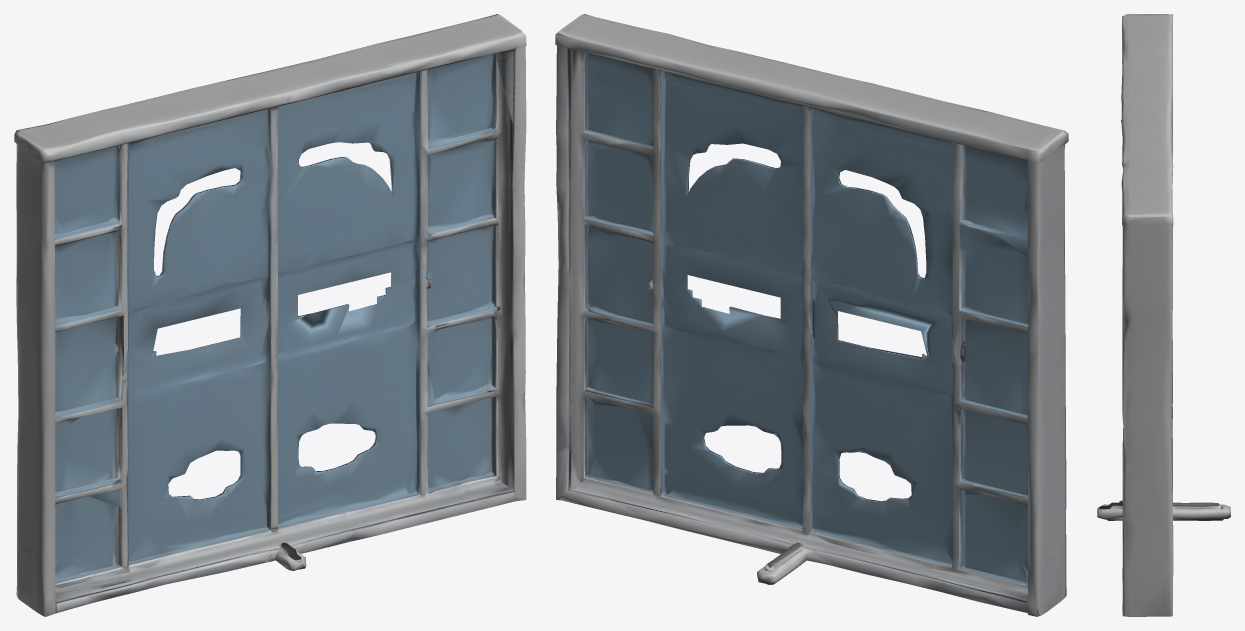
Rendered from level1-office-window.glb.
3 renders of one model, left to right at view 1: azimuth 30°, elevation 25°; view 2: azimuth 150°, elevation 25°; view 3: azimuth 270°, elevation 25°, orthographic. The views are drawn at different scales.
Visible parts, largest first — view 1: tripo_node_243b9662-0704-4795-bea9-71017e061377; view 2: tripo_node_243b9662-0704-4795-bea9-71017e061377; view 3: tripo_node_243b9662-0704-4795-bea9-71017e061377.
Boxes of the visible parts, x1,y1,x2,y2 form: tripo_node_243b9662-0704-4795-bea9-71017e061377: (14, 14, 526, 616); tripo_node_243b9662-0704-4795-bea9-71017e061377: (555, 14, 1068, 616); tripo_node_243b9662-0704-4795-bea9-71017e061377: (1097, 14, 1230, 616).
Size of the model in its own units: 0.9807 by 0.9133 by 0.2729.
Materials: 1 (1 with a texture image).
